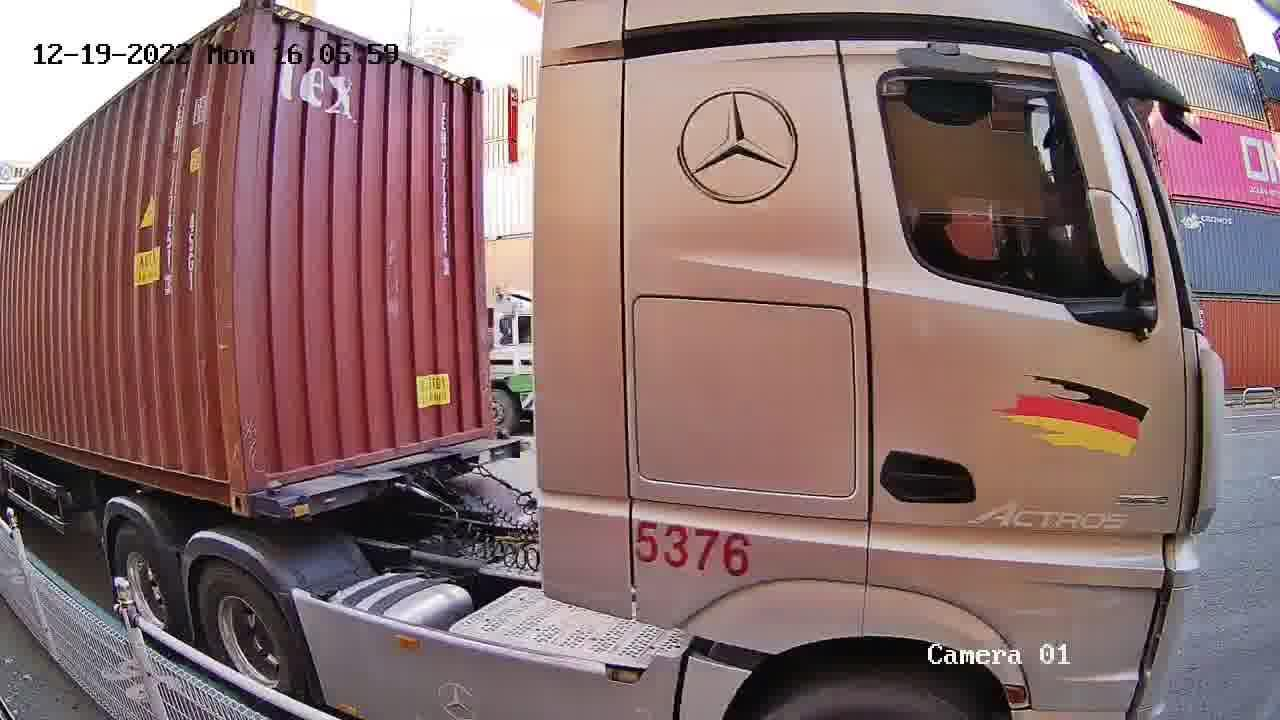Cone: (249, 438, 520, 521)
Hole_R: (203, 453, 250, 517)
Tire: (200, 565, 299, 699), (111, 523, 179, 630)
